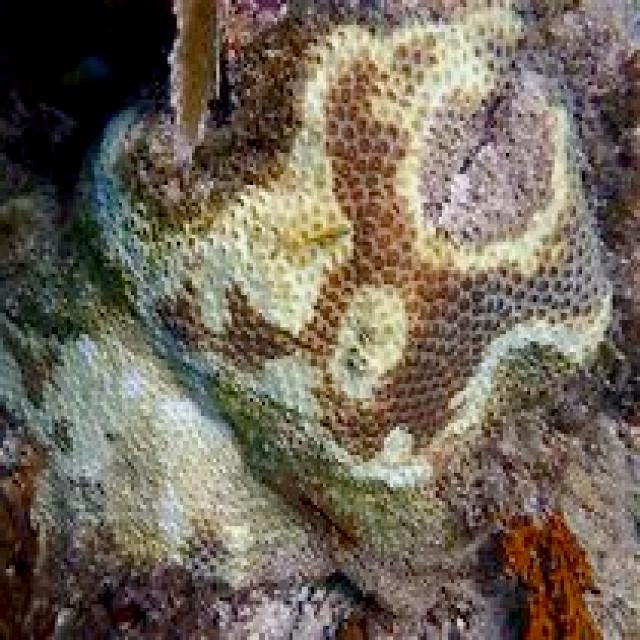Coral: (0, 0, 616, 590)
